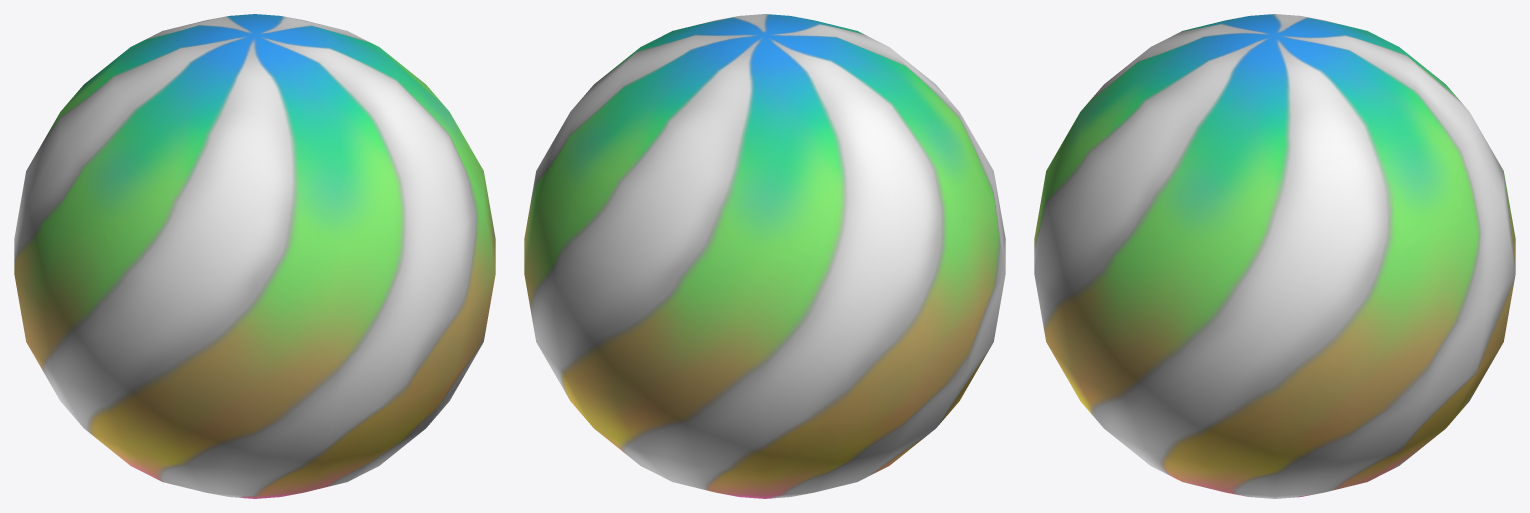
Rendered from Candy.fbx.
The picture shows the model from 3 angles, left to right: view 1: azimuth 30°, elevation 25°; view 2: azimuth 150°, elevation 25°; view 3: azimuth 270°, elevation 25°; orthographic projection.
Visible parts, largest first — view 1: Candy; view 2: Candy; view 3: Candy.
Part boxes in pixels (bbox=[...]): Candy: bbox=[14, 14, 495, 498]; Candy: bbox=[524, 14, 1005, 498]; Candy: bbox=[1034, 14, 1515, 498].
Bounding box in the file's own units: 2 × 2 × 1.97.
1 material, 1 textured.
